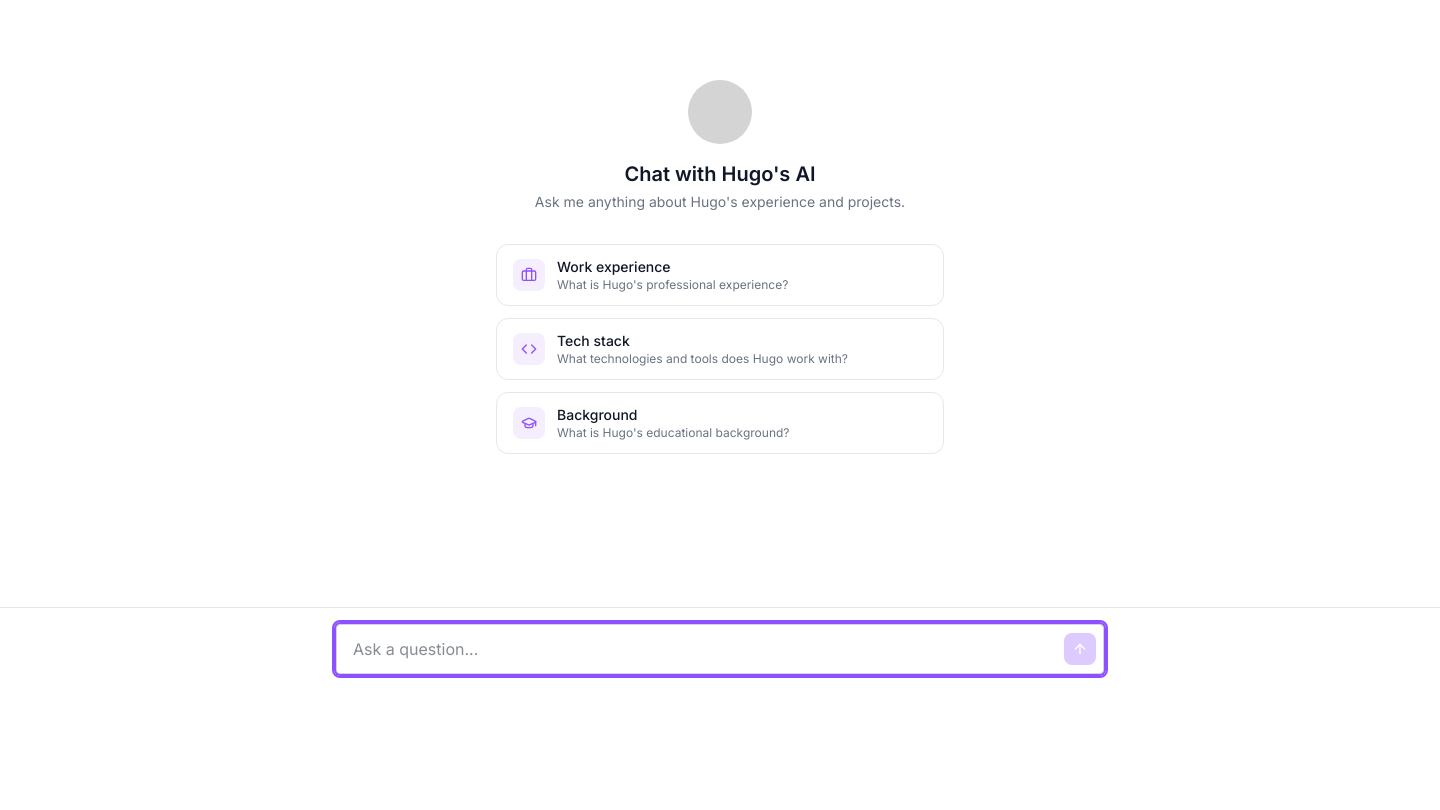
ChatPage › sends a message and shows the response
The image size is (1440, 810).
Type "Hello" into the field with placeholder "Ask a question..." at coordinates (720, 649), box [336, 624, 1104, 674]
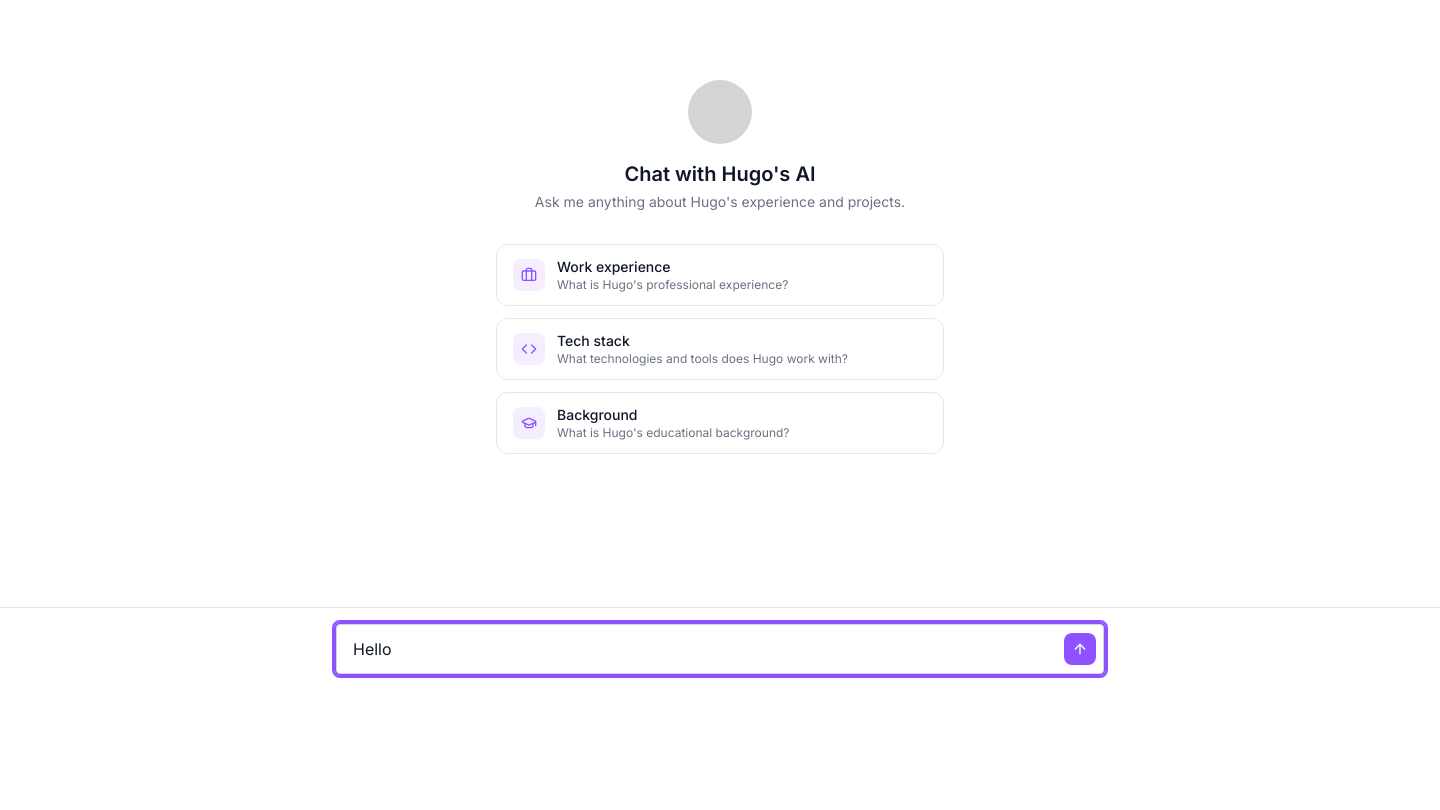
Press Enter
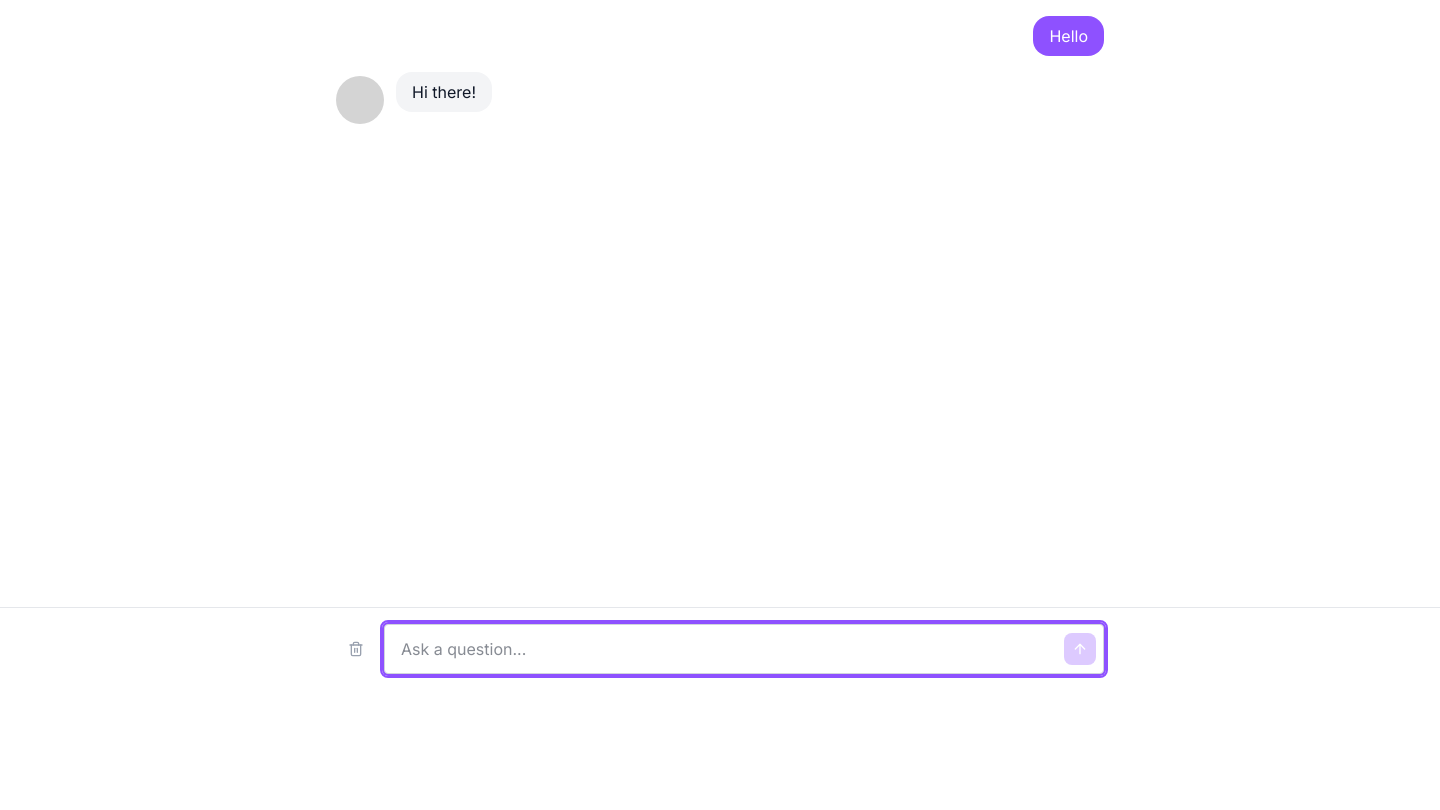
Expected: the text "Hello" is shown, [1033, 16, 1104, 56]
Expected: the text "Hi there!" is shown, [396, 72, 492, 112]
